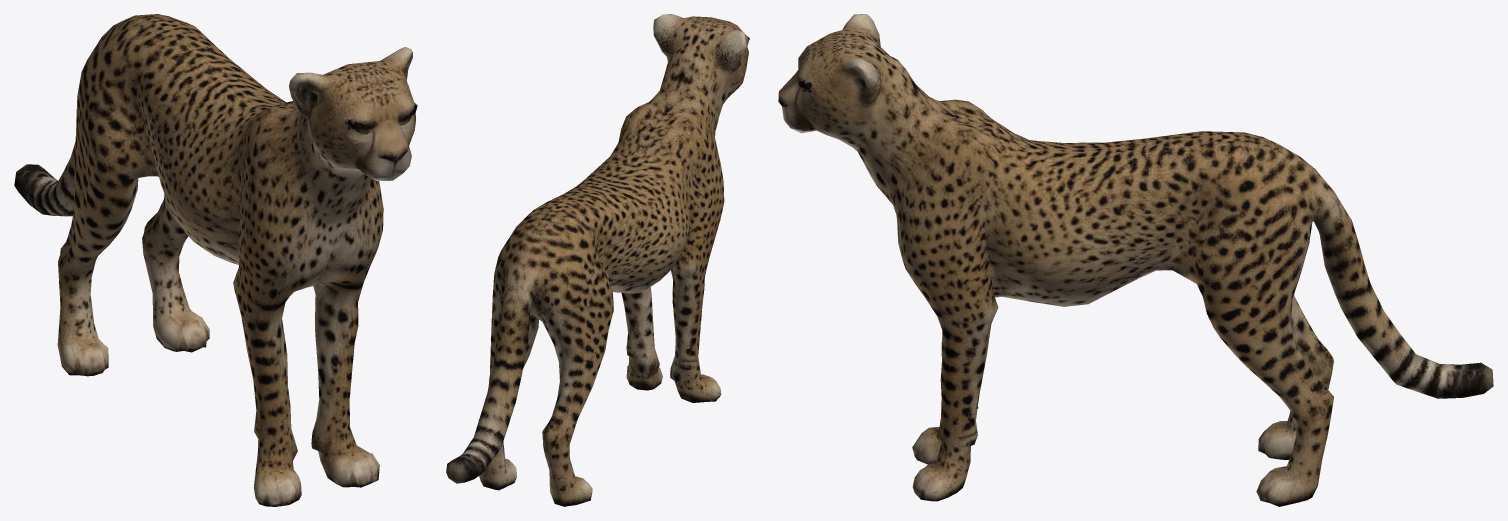
Rendered from cheetah-web.glb.
The picture shows the model from 3 angles, left to right: view 1: azimuth 30°, elevation 25°; view 2: azimuth 150°, elevation 25°; view 3: azimuth 270°, elevation 25°; orthographic projection. The views are drawn at different scales.
Visible parts, largest first — view 1: geom0; view 2: geom0; view 3: geom0.
Boxes of the visible parts, x1,y1,x2,y2 form: geom0: (14, 14, 417, 506); geom0: (446, 14, 749, 506); geom0: (778, 14, 1493, 506).
Size of the model in its own units: 0.2255 by 0.6848 by 1.01.
1 material, 1 textured.
